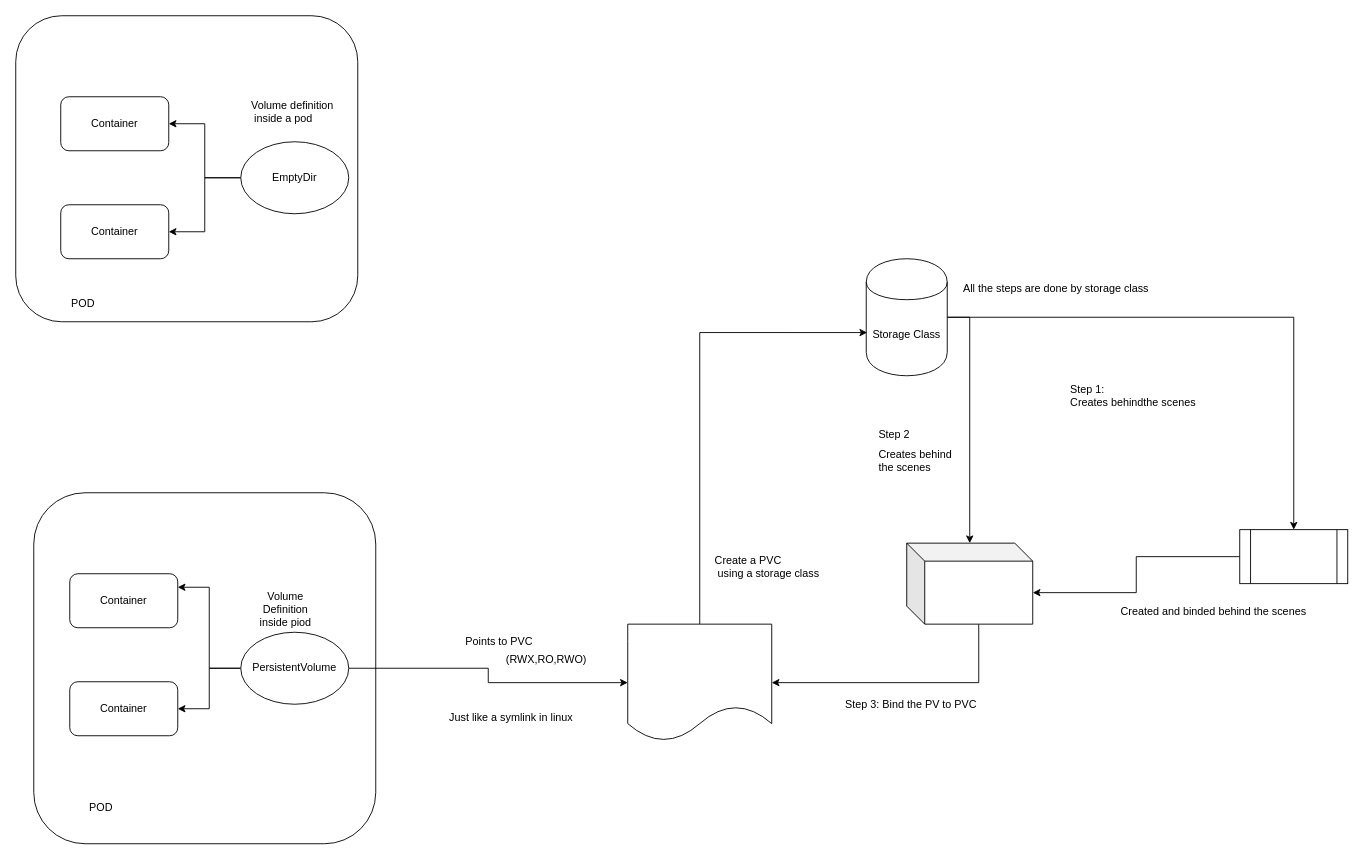
This 1364x860 diagram has some shape labels left out. The centre of each missing label's shape, as x and y in pixels:
Actual Disk on Google: (1293,556)
Persistent Volume: (969,583)
Persistent Volume Claim: (699,682)
